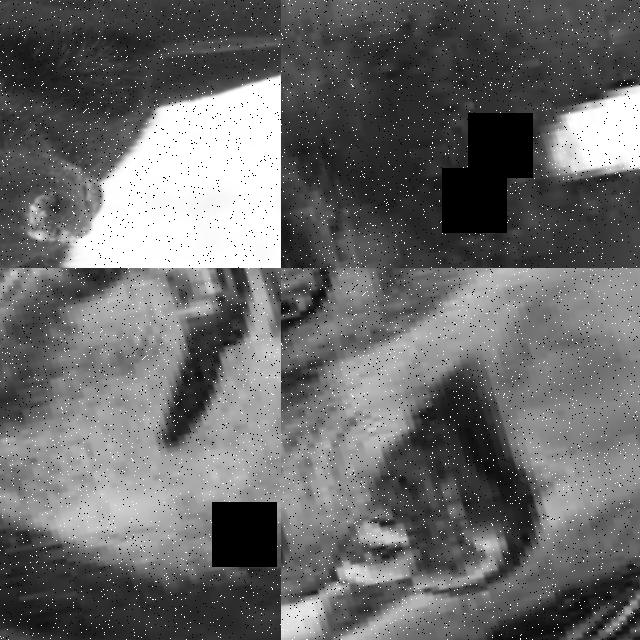wolf: (281, 268, 640, 640), (0, 268, 281, 640), (281, 0, 640, 268), (0, 0, 281, 268)
